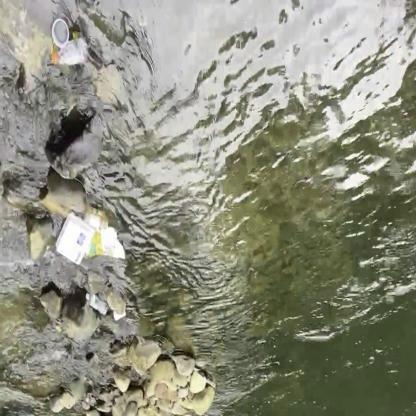Plastic: (49, 25, 90, 70), (84, 291, 110, 317), (112, 304, 130, 324)
